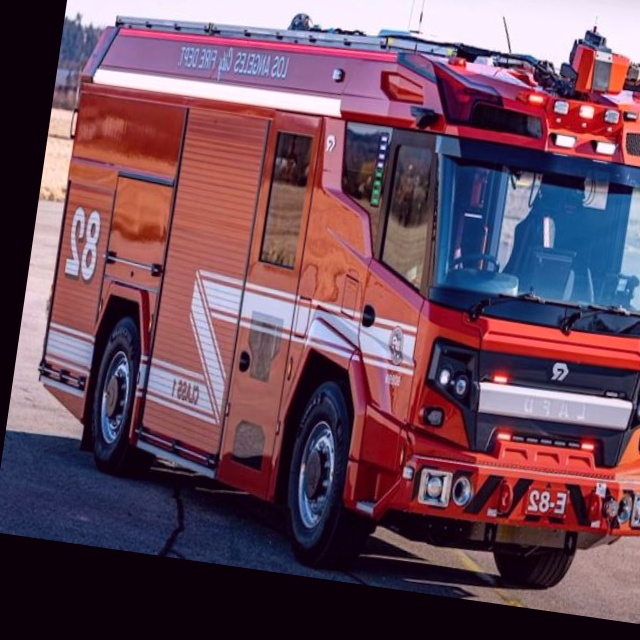Fire-truck: (13, 0, 640, 614)
